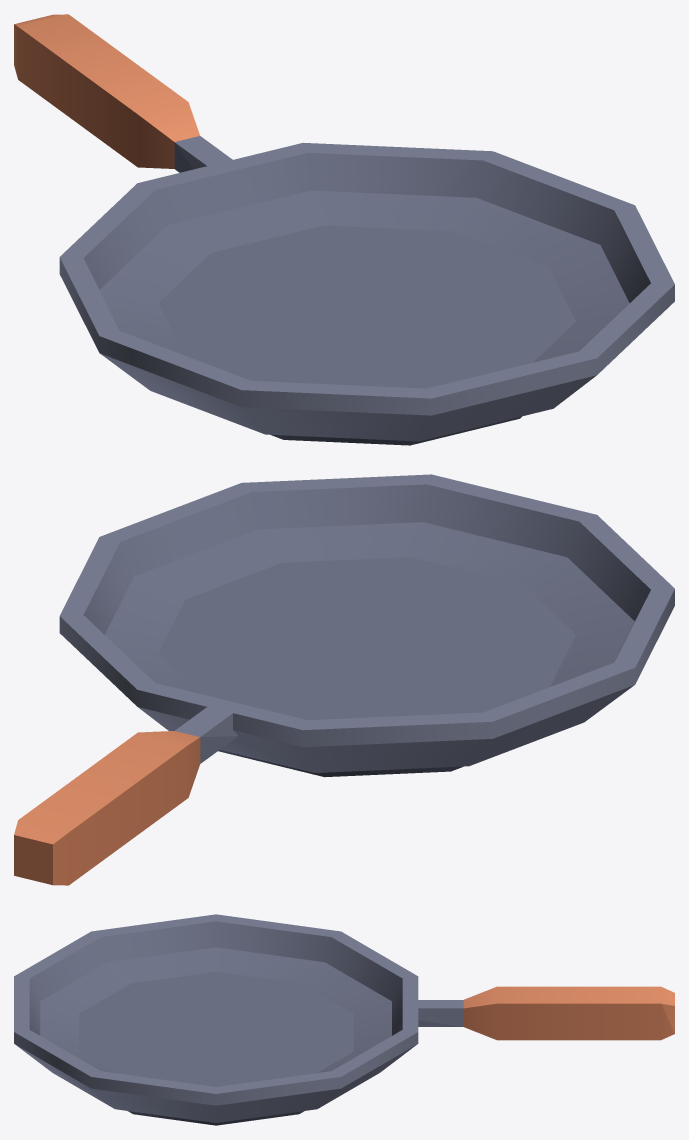
Rendered from frigideira.glb.
3 renders of one model, top to bottom at view 1: azimuth 30°, elevation 25°; view 2: azimuth 150°, elevation 25°; view 3: azimuth 270°, elevation 25°, orthographic. The views are drawn at different scales.
Parts seen in each view (by area): view 1: frying-pan; view 2: frying-pan; view 3: frying-pan.
Part boxes in pixels (x1=…): frying-pan: x1=14, y1=14, x2=674, y2=445; frying-pan: x1=14, y1=474, x2=674, y2=885; frying-pan: x1=14, y1=914, x2=674, y2=1125.
Size of the model in its own units: 0.6574 by 0.1206 by 1.02.
